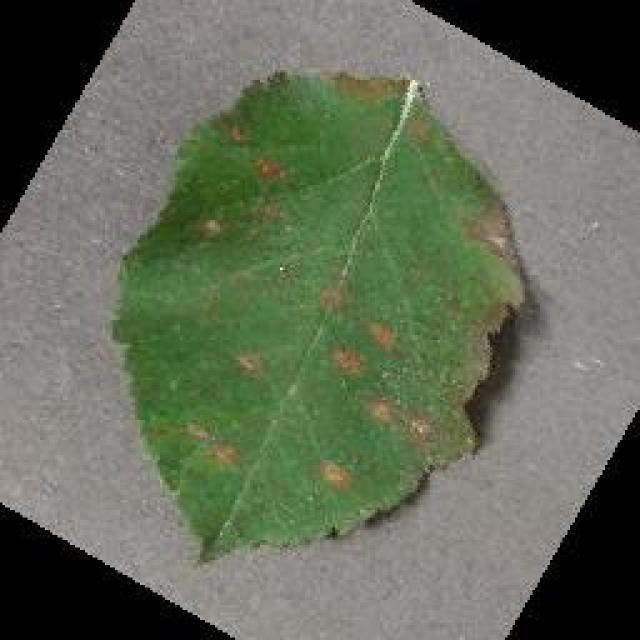apple healthy: (108, 65, 528, 563)
